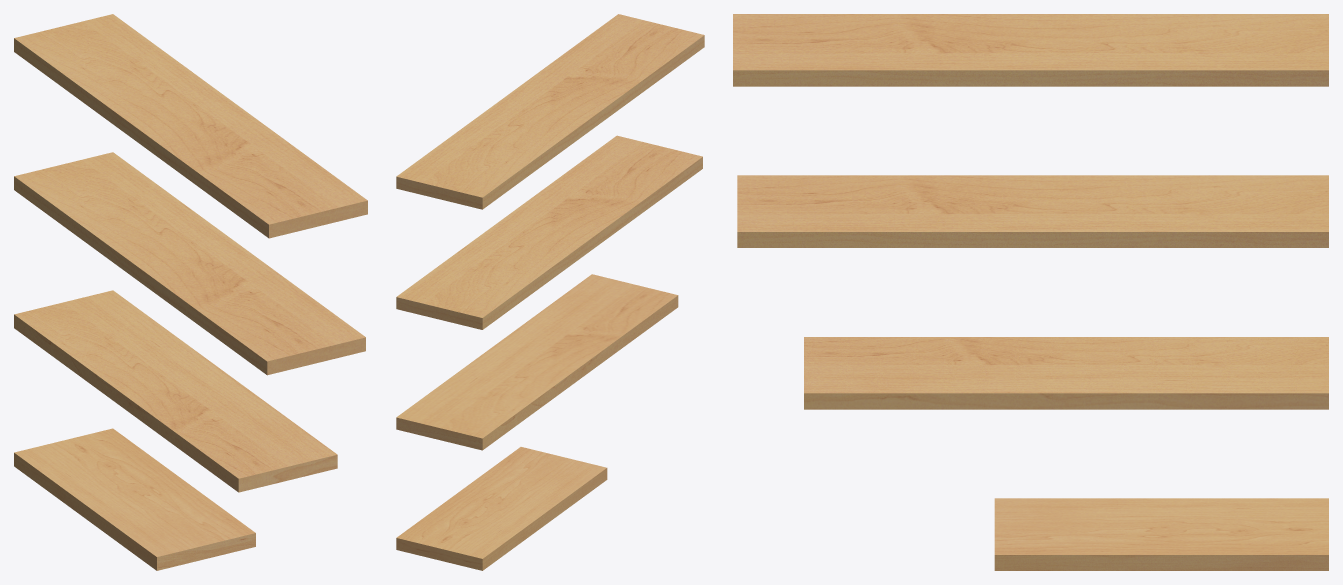
File: shujia.fbx
3 renders of one model, left to right at view 1: azimuth 30°, elevation 25°; view 2: azimuth 150°, elevation 25°; view 3: azimuth 270°, elevation 25°, orthographic. The views are drawn at different scales.
Visible parts, largest first — view 1: shujia; view 2: shujia; view 3: shujia.
Part boxes in pixels (bbox=[...]): shujia: bbox=[14, 14, 367, 570]; shujia: bbox=[396, 14, 704, 570]; shujia: bbox=[733, 14, 1328, 570].
Bounding box in the file's own units: 30.03 × 124 × 134.
